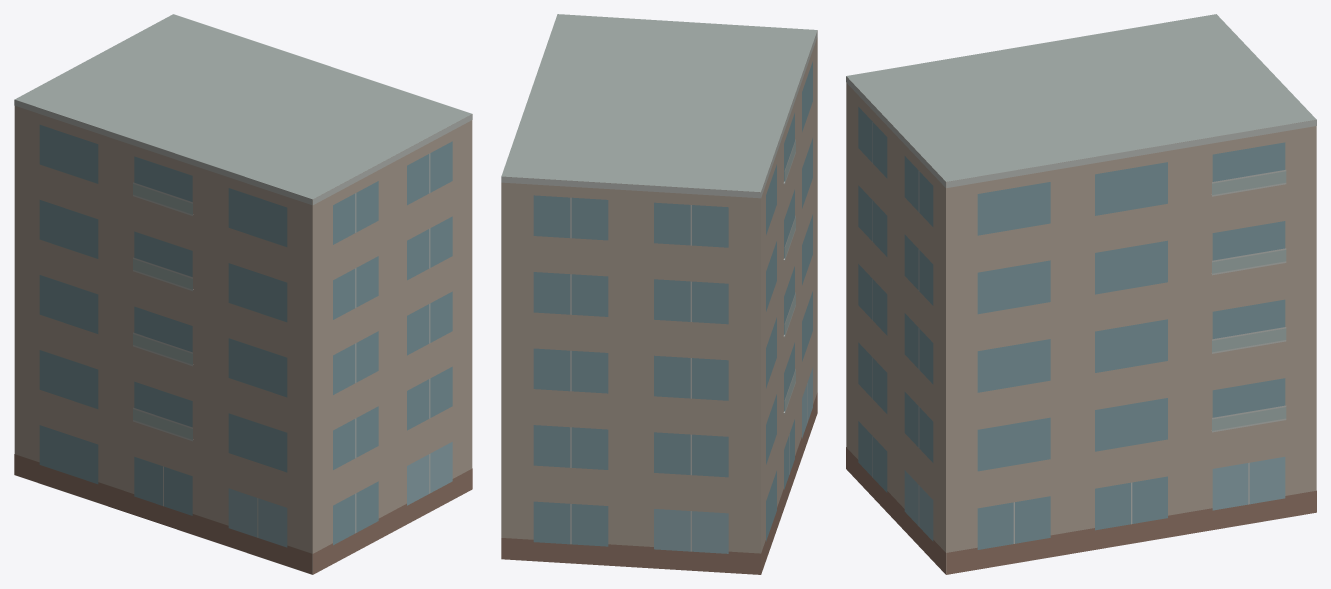
File: survey-upis-32907362.glb
3 views of the same model, side by side, from view 1: azimuth 30°, elevation 25°; view 2: azimuth 150°, elevation 25°; view 3: azimuth 270°, elevation 25° (orthographic). The views are drawn at different scales.
Visible parts, largest first — view 1: survey-upis-32907362.tmp; view 2: survey-upis-32907362.tmp; view 3: survey-upis-32907362.tmp.
Boxes of the visible parts, x1=… form: survey-upis-32907362.tmp: x1=14, y1=14, x2=472, y2=574; survey-upis-32907362.tmp: x1=501, y1=14, x2=817, y2=574; survey-upis-32907362.tmp: x1=846, y1=14, x2=1316, y2=574.
Bounding box in the file's own units: 13.99 × 15.25 × 16.56.
